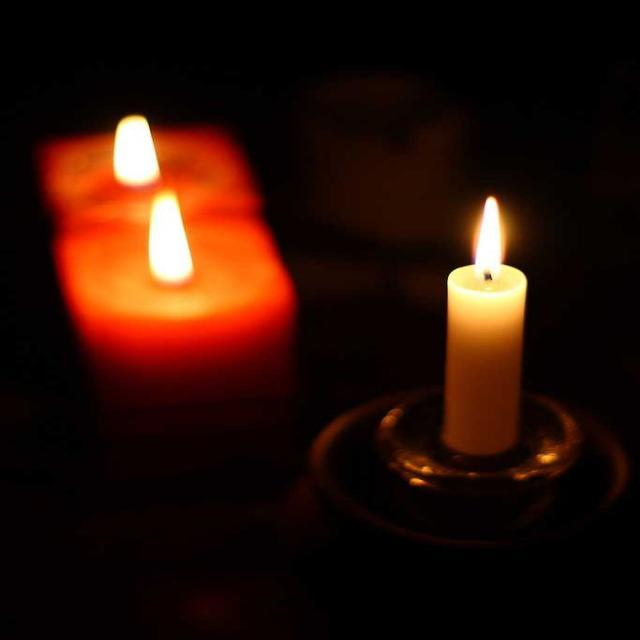Fire: (148, 194, 208, 278), (464, 208, 516, 300)
